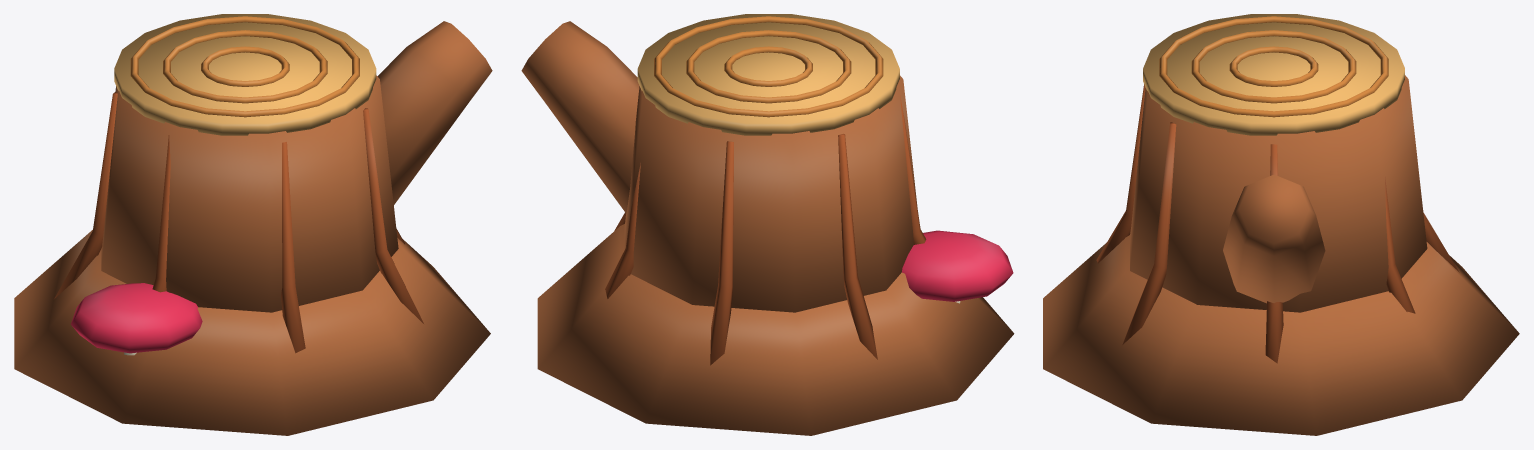
The model's file is TreeStump.fbx.
The picture shows the model from 3 angles, left to right: view 1: azimuth 30°, elevation 25°; view 2: azimuth 150°, elevation 25°; view 3: azimuth 270°, elevation 25°; orthographic projection.
Visible parts, largest first — view 1: TreeStump; view 2: TreeStump; view 3: TreeStump.
Boxes of the visible parts, x1,y1,x2,y2 form: TreeStump: (14,14,492,435); TreeStump: (521,14,1014,435); TreeStump: (1043,14,1519,435).
Bounding box in the file's own units: 4.43 × 2.55 × 4.07.
1 material, 1 textured.
